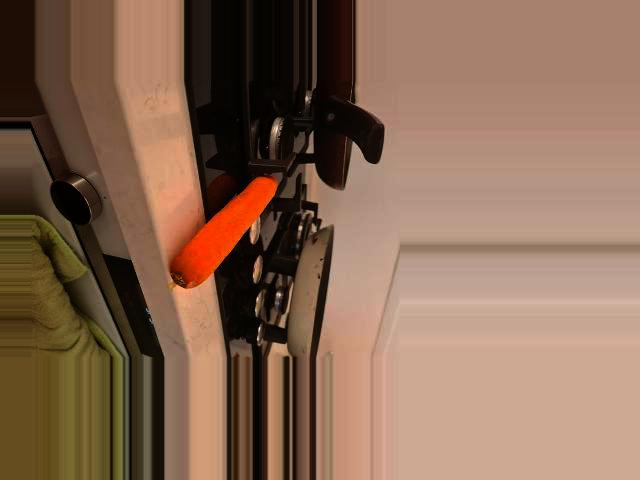carrot: (166, 172, 279, 286)
